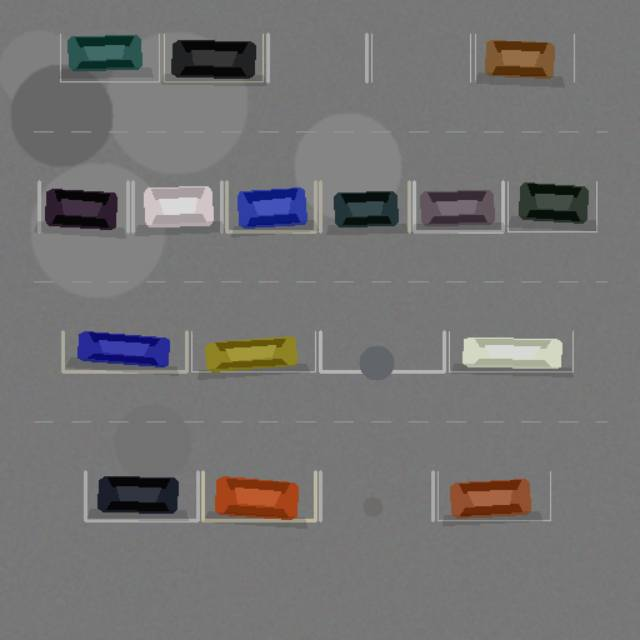space-empty: (320, 471, 433, 520), (320, 331, 444, 371), (267, 34, 366, 81), (371, 34, 470, 81)
space-occupied: (437, 471, 550, 520), (85, 471, 197, 520), (203, 471, 315, 520), (191, 331, 315, 371), (449, 331, 573, 371), (63, 331, 186, 371), (60, 34, 159, 81), (164, 34, 263, 81), (475, 34, 574, 81), (39, 181, 128, 231), (132, 181, 221, 231), (226, 181, 315, 231), (320, 181, 409, 231), (414, 181, 502, 231), (508, 181, 596, 231)
